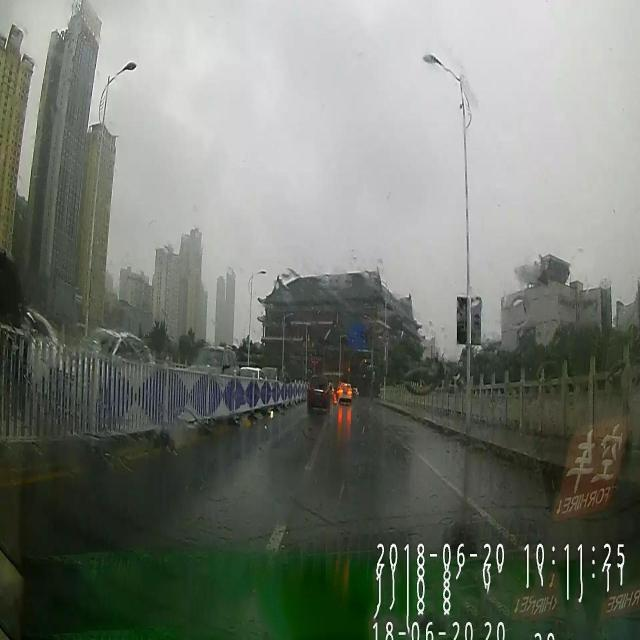car: (69, 328, 155, 366), (184, 343, 238, 377), (306, 374, 331, 414), (338, 381, 353, 406)
